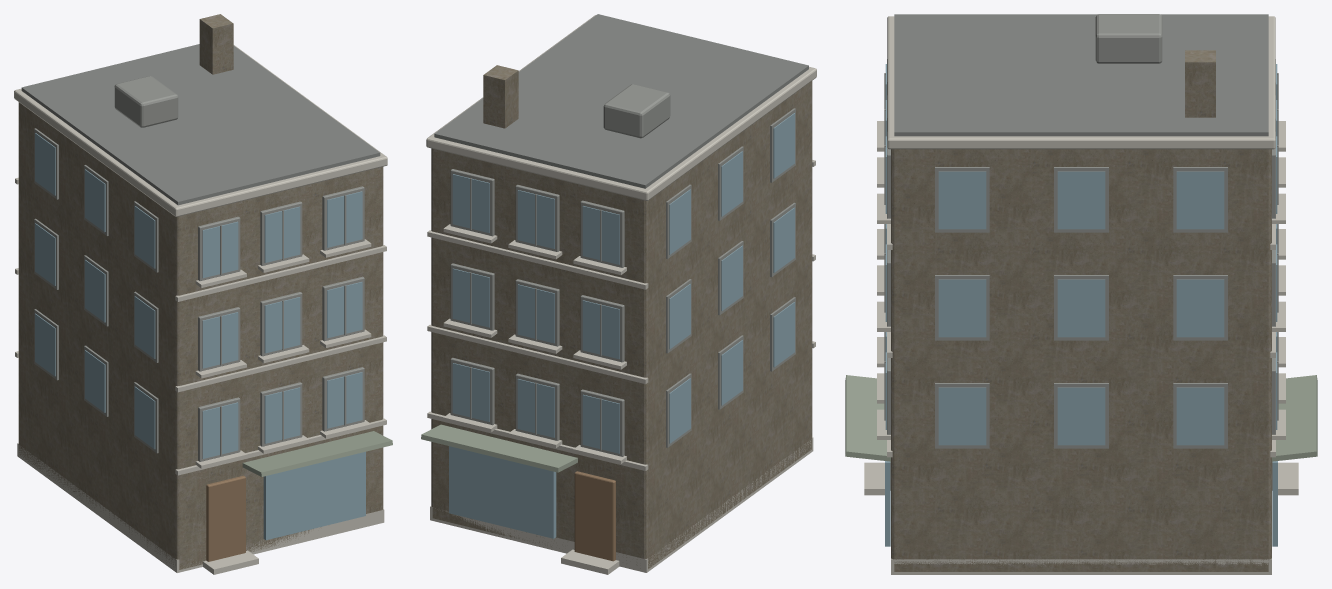
File: plaster-apartments.glb
The picture shows the model from 3 angles, left to right: view 1: azimuth 30°, elevation 25°; view 2: azimuth 150°, elevation 25°; view 3: azimuth 270°, elevation 25°; orthographic projection. The views are drawn at different scales.
Parts seen in each view (by area): view 1: plaster-apartments; view 2: plaster-apartments; view 3: plaster-apartments.
Boxes of the visible parts, x1=… form: plaster-apartments: x1=14, y1=14, x2=392, y2=574; plaster-apartments: x1=421, y1=14, x2=816, y2=574; plaster-apartments: x1=845, y1=14, x2=1317, y2=574.
Bounding box in the file's own units: 6.15 × 11.5 × 9.91.
Materials: 7 (1 with a texture image).
